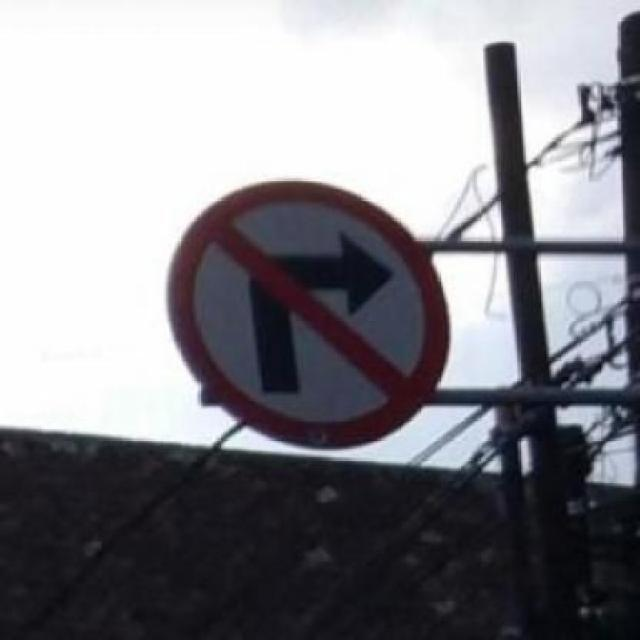right turn prohibited: (163, 181, 453, 451)
